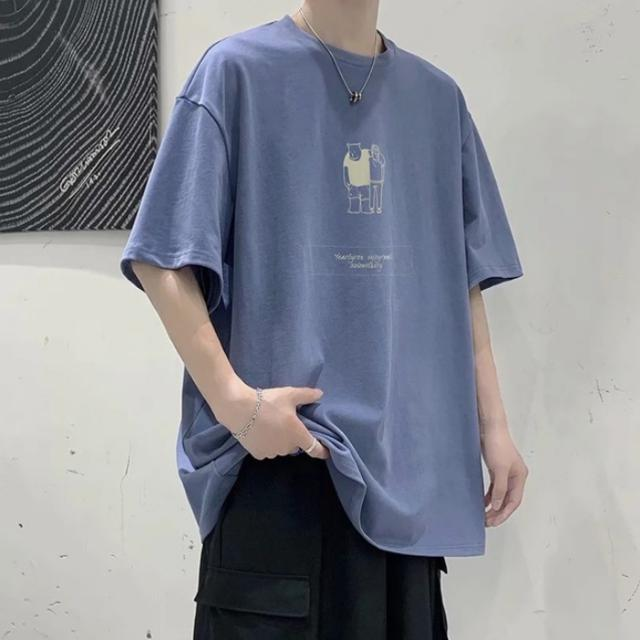Shirt: (116, 10, 518, 561)
